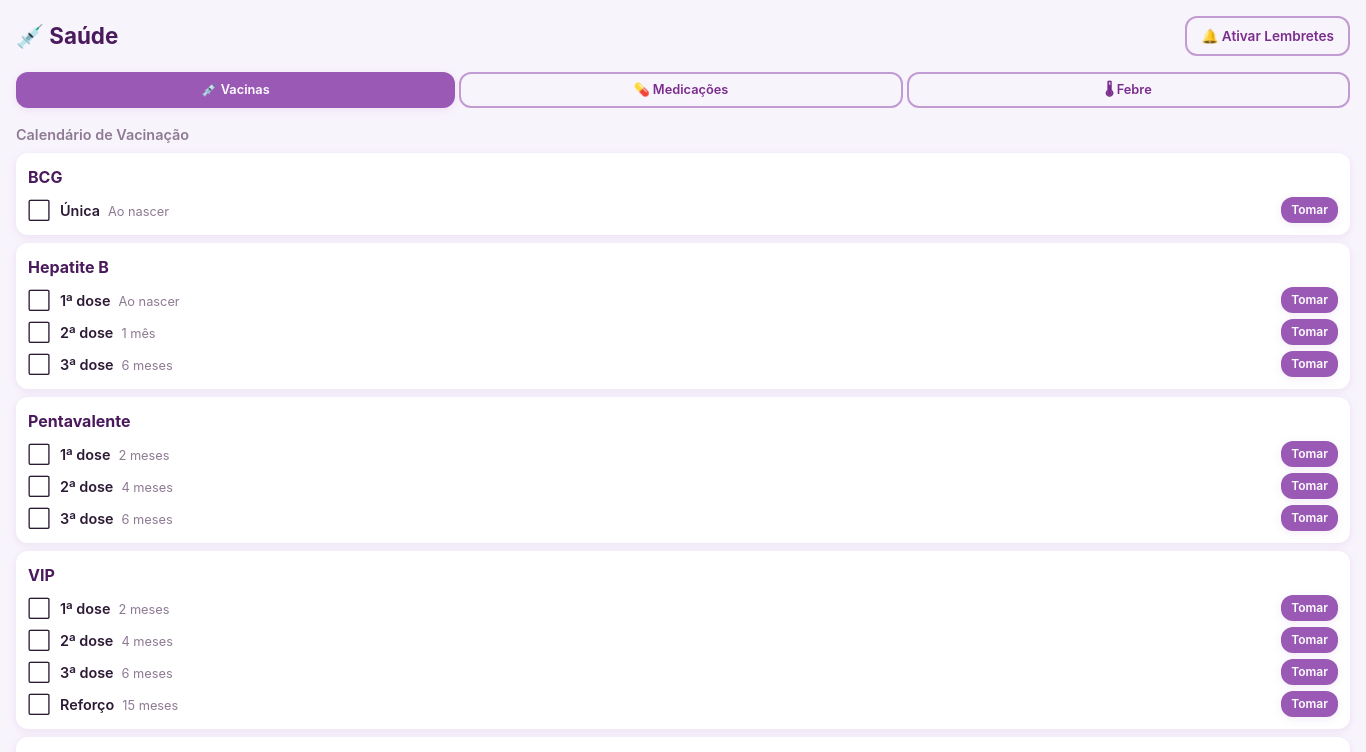
Health › switches to medications tab
The width and height of the screenshot is (1366, 752).
Click the button "💊 Medicações" at coordinates (681, 90), box [459,72,903,108]
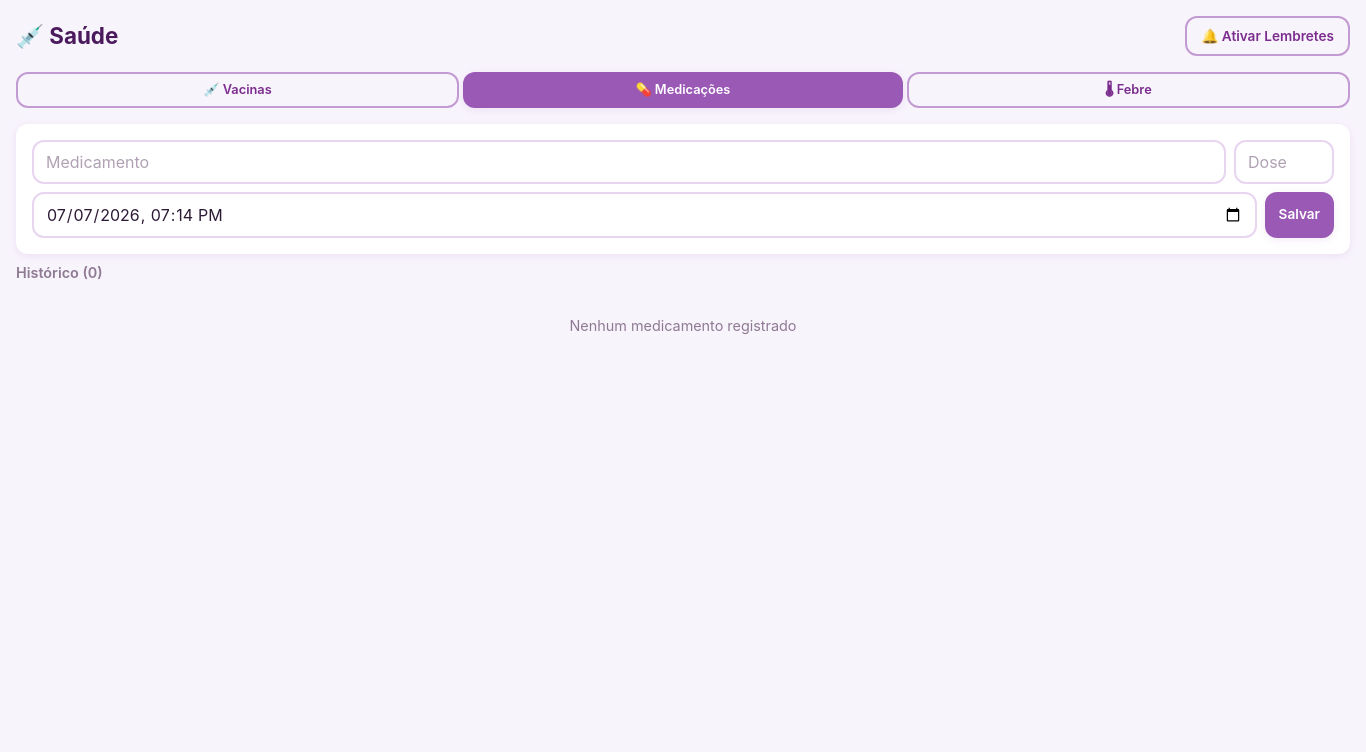
Result: the field with placeholder "Medicamento" is shown at [32,140,1226,184]
Result: the field with placeholder "Dose" is shown at [1234,140,1334,184]
